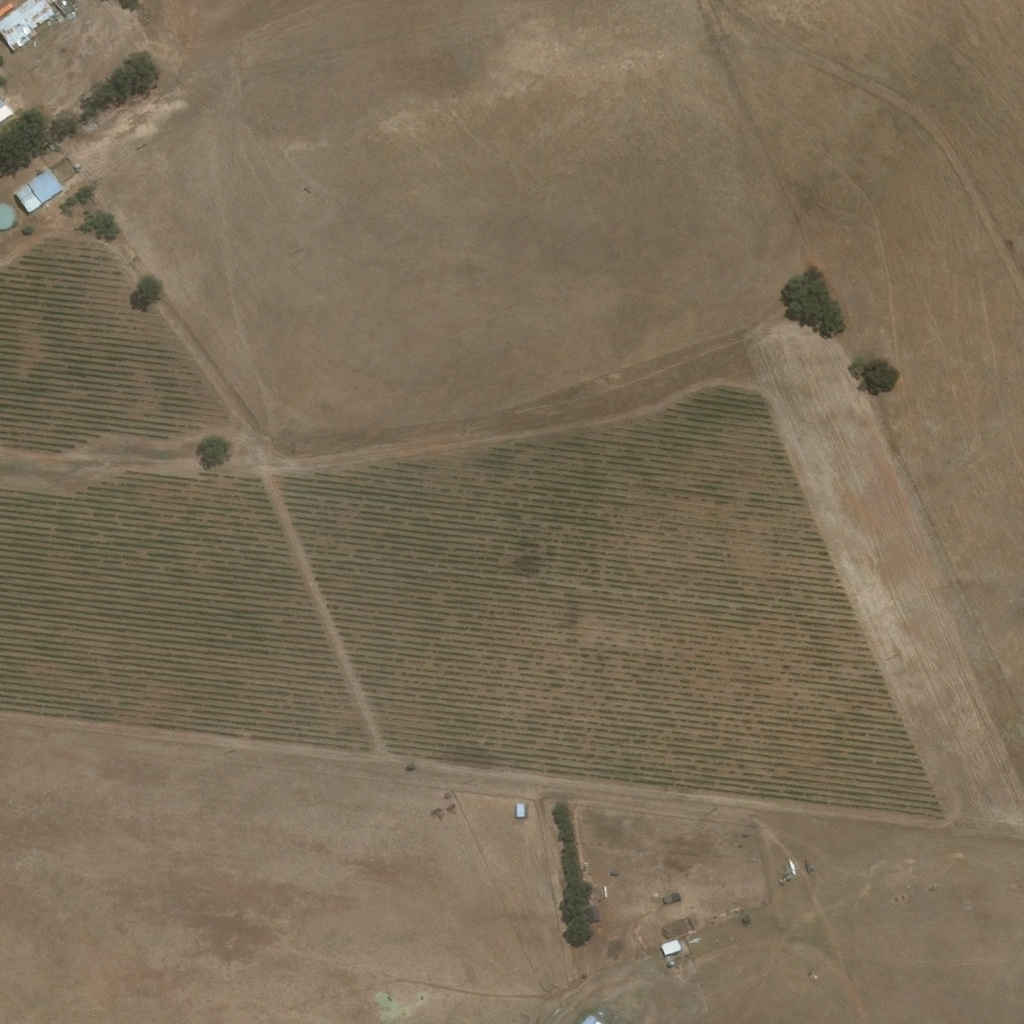0 no-damage: (26, 168, 62, 206), (10, 184, 40, 216), (656, 944, 677, 961), (0, 206, 13, 233), (583, 908, 596, 927), (513, 805, 524, 820), (663, 963, 670, 972)
4 un-classified: (0, 97, 11, 124)
